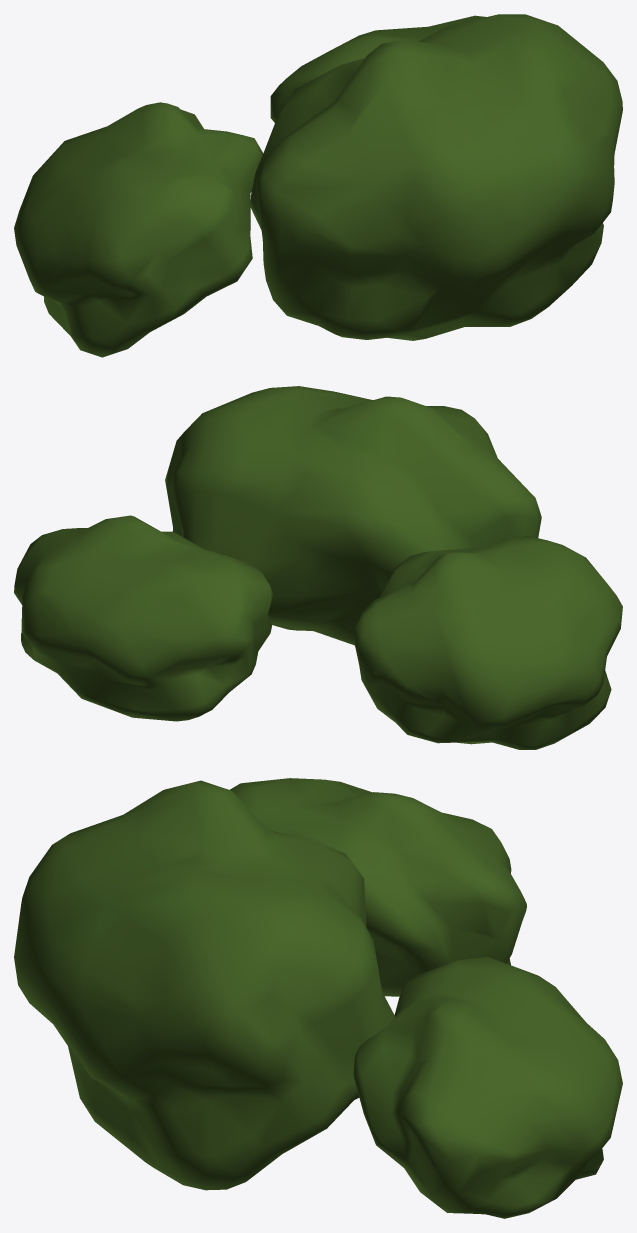
Rendered from Bush4_1.fbx.
The picture shows the model from 3 angles, top to bottom: view 1: azimuth 30°, elevation 25°; view 2: azimuth 150°, elevation 25°; view 3: azimuth 270°, elevation 25°; orthographic projection. The views are drawn at different scales.
Visible parts, largest first — view 1: Plane.008; view 2: Plane.008; view 3: Plane.008.
Boxes of the visible parts, bbox=[...] form: Plane.008: bbox=[14, 14, 622, 357]; Plane.008: bbox=[14, 386, 622, 749]; Plane.008: bbox=[14, 778, 622, 1218].
Size of the model in its own units: 537 by 243 by 415.
